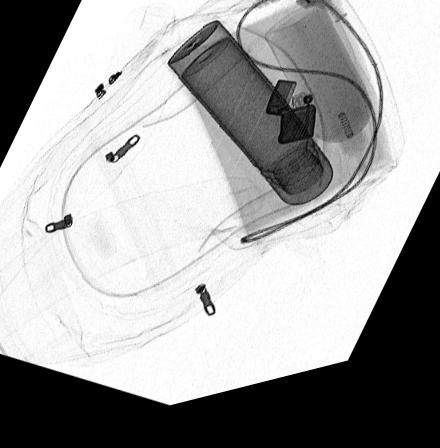Lighter: (263, 92, 315, 158)
